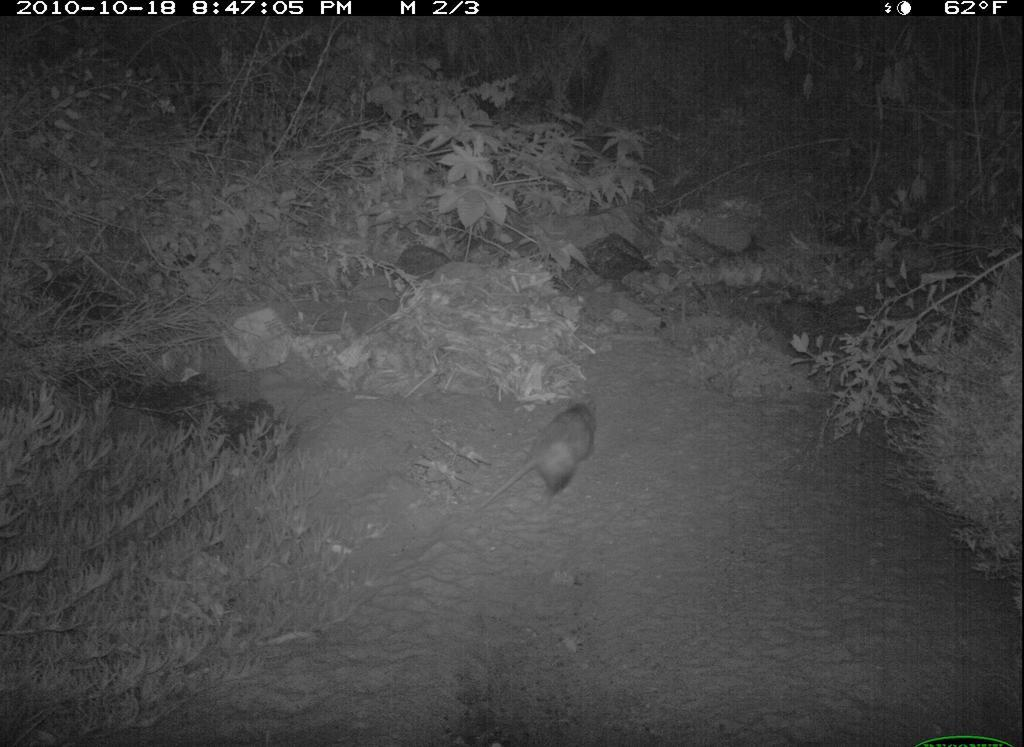opossum: (472, 391, 603, 519)
